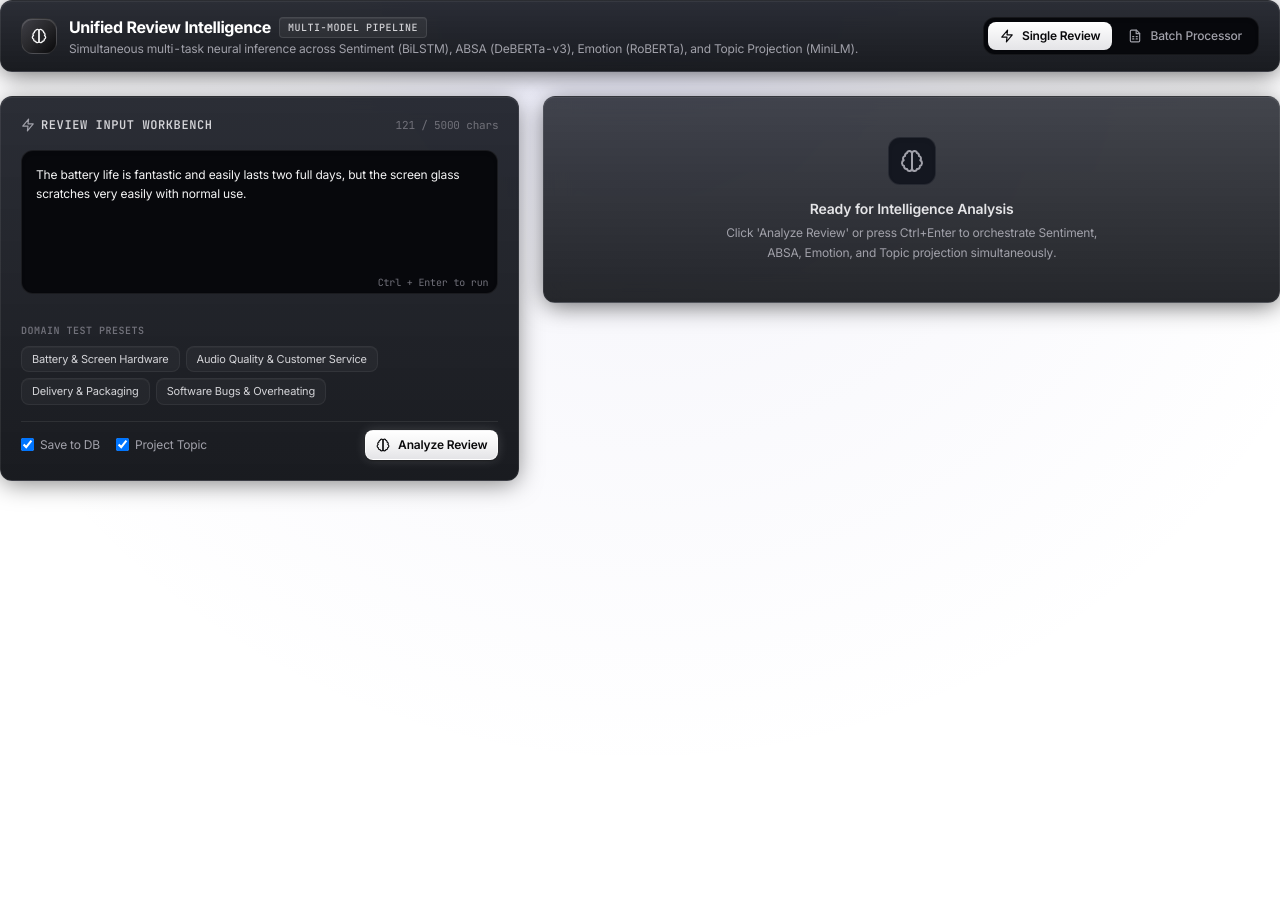
it: ReviewIntelligence Component › executes unified multi-task intelligence and renders interactive evidence with aspect highlights
This screenshot has width=1280, height=900.
Step 1. Click the button "Analyze Review" → {"x": 432, "y": 444}, box [365,430,498,460]
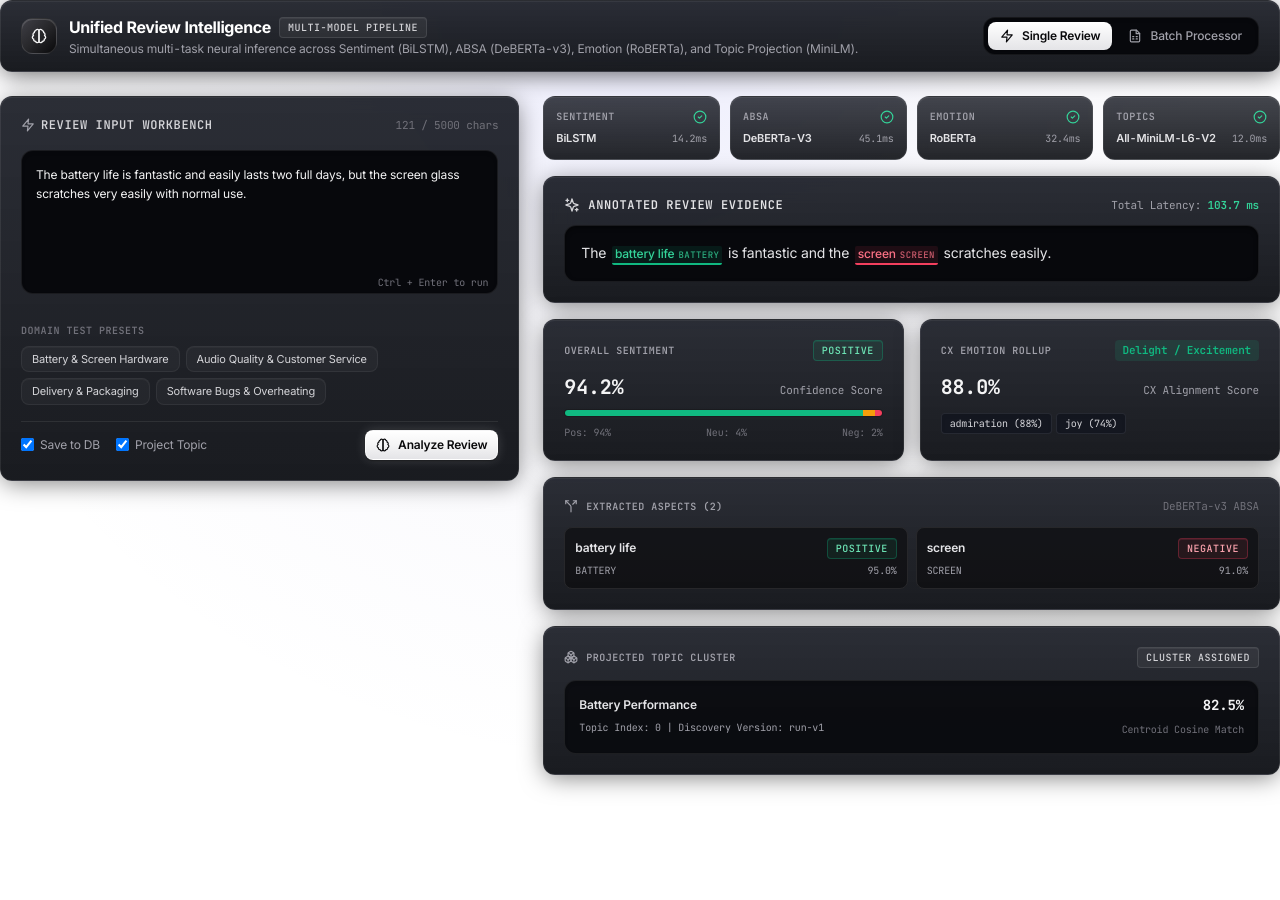
Expected: the heading "Annotated Review Evidence" is shown, [588,197,783,213]
Expected: the text "94.2%" is shown, [564,373,623,401]
Expected: the text "Delight / Excitement" is shown, [1114,340,1259,360]
